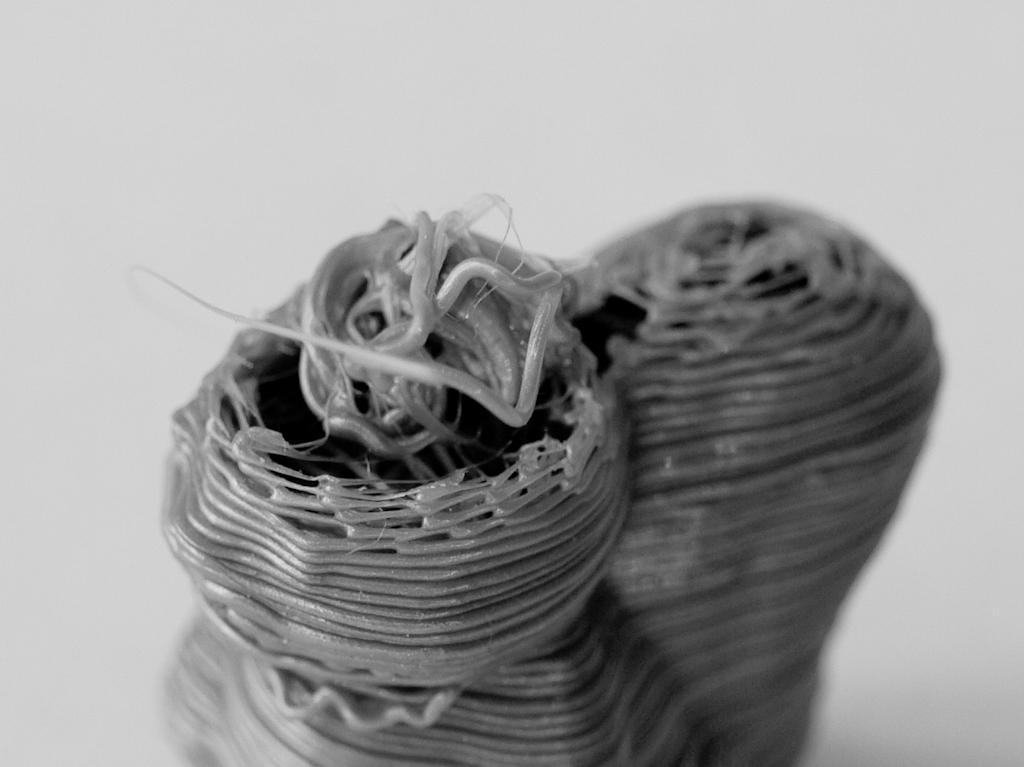Spaghetti: (101, 413, 868, 766), (188, 186, 1023, 383), (148, 336, 1023, 480)
